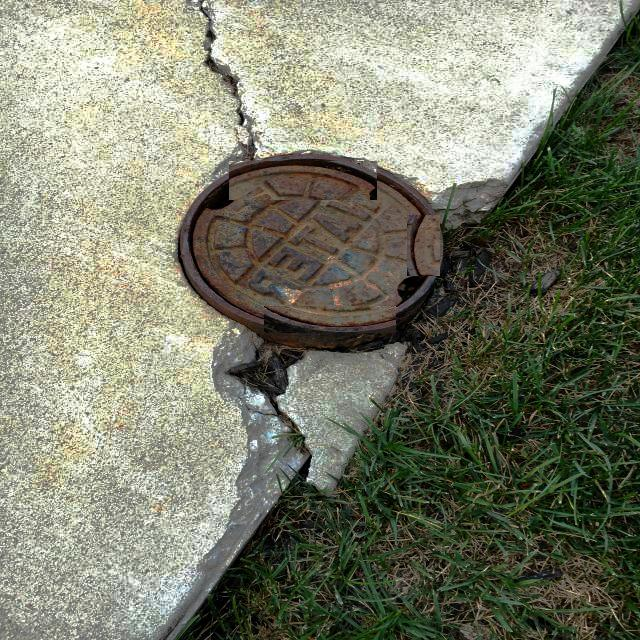Corrosion: (179, 153, 443, 350)
